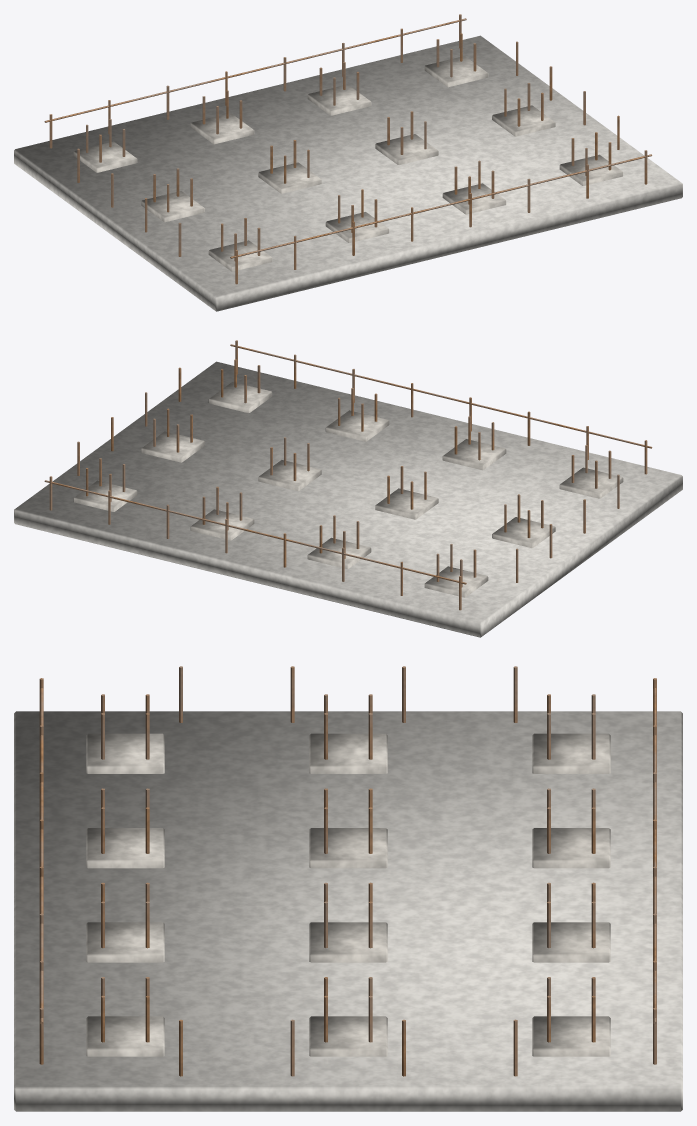
The model's file is Works_Foundation.fbx.
3 renders of one model, top to bottom at view 1: azimuth 30°, elevation 25°; view 2: azimuth 150°, elevation 25°; view 3: azimuth 270°, elevation 25°, orthographic. The views are drawn at different scales.
Parts seen in each view (by area): view 1: Body; view 2: Body; view 3: Body.
Part boxes in pixels (x1,y1,x2,y2): Body: [14, 14, 682, 311]; Body: [14, 340, 682, 637]; Body: [14, 666, 682, 1111].
Size of the model in its own units: 8 by 0.795 by 6.
1 material, 1 textured.
